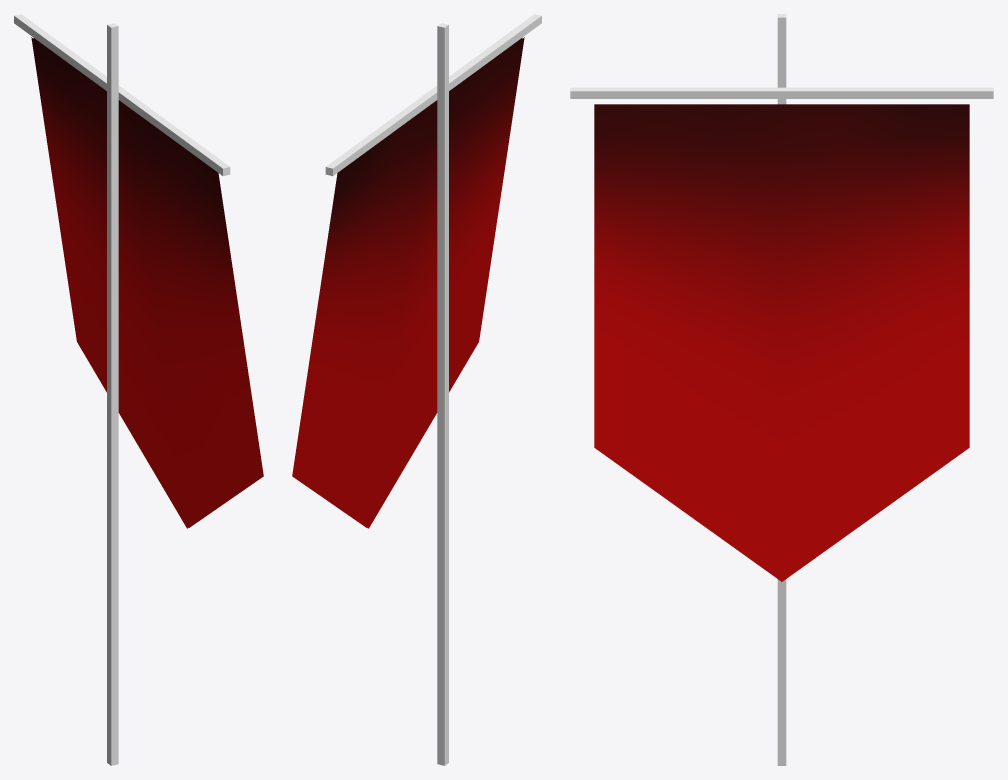
The model's file is Banner.fbx.
3 renders of one model, left to right at view 1: azimuth 30°, elevation 25°; view 2: azimuth 150°, elevation 25°; view 3: azimuth 270°, elevation 25°, orthographic.
Parts seen in each view (by area): view 1: Banner; view 2: Banner; view 3: Banner.
Part boxes in pixels (x1,y1,x2,y2): Banner: (14,14,263,765); Banner: (292,14,541,765); Banner: (570,14,993,765).
Bounding box in the file's own units: 19.39 × 171 × 87.67.
